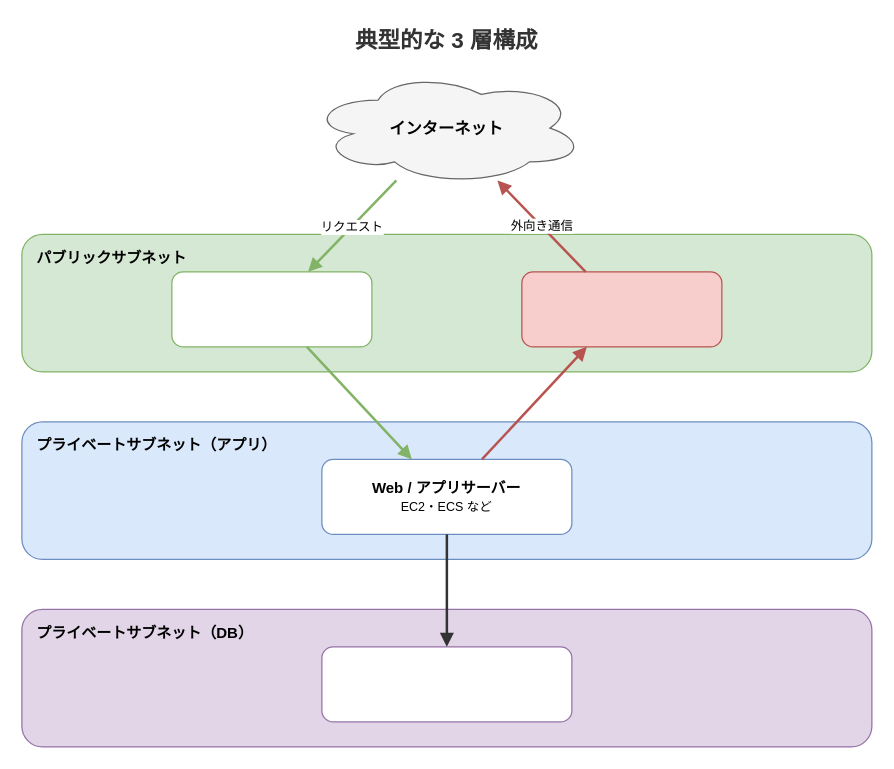
The diagram is 894 pixels wide and 769 high, and some of its shapes have lost their labels. Each missing label, with the centre of its shape:
"ALB 入口" goes at (x=271, y=309).
"DB RDS など" goes at (x=446, y=684).
"NAT Gateway 出口" goes at (x=621, y=309).
